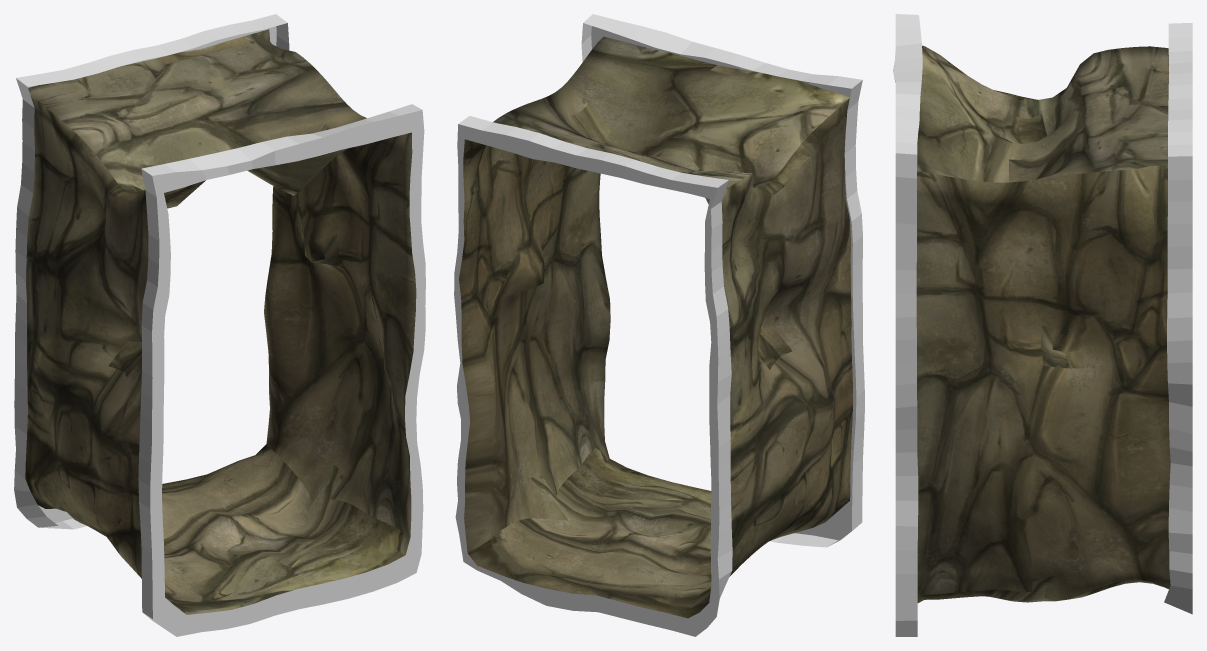
The model's file is cave module 4.fbx.
The picture shows the model from 3 angles, left to right: view 1: azimuth 30°, elevation 25°; view 2: azimuth 150°, elevation 25°; view 3: azimuth 270°, elevation 25°; orthographic projection. The views are drawn at different scales.
Parts seen in each view (by area): view 1: Plane.4; view 2: Plane.4; view 3: Plane.4.
Boxes of the visible parts, <box> form: Plane.4: <box>14,14,425,636</box>; Plane.4: <box>454,14,864,636</box>; Plane.4: <box>893,14,1192,636</box>.
Size of the model in its own units: 717 by 1114 by 605.
